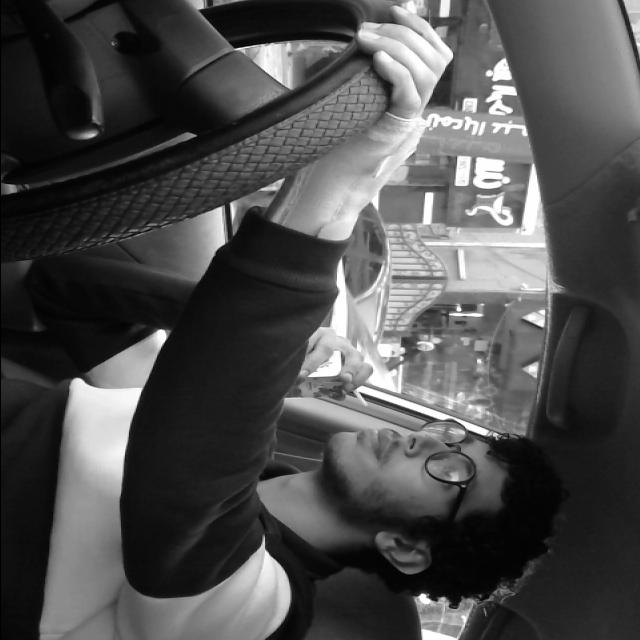drinking: (215, 340, 372, 408)
